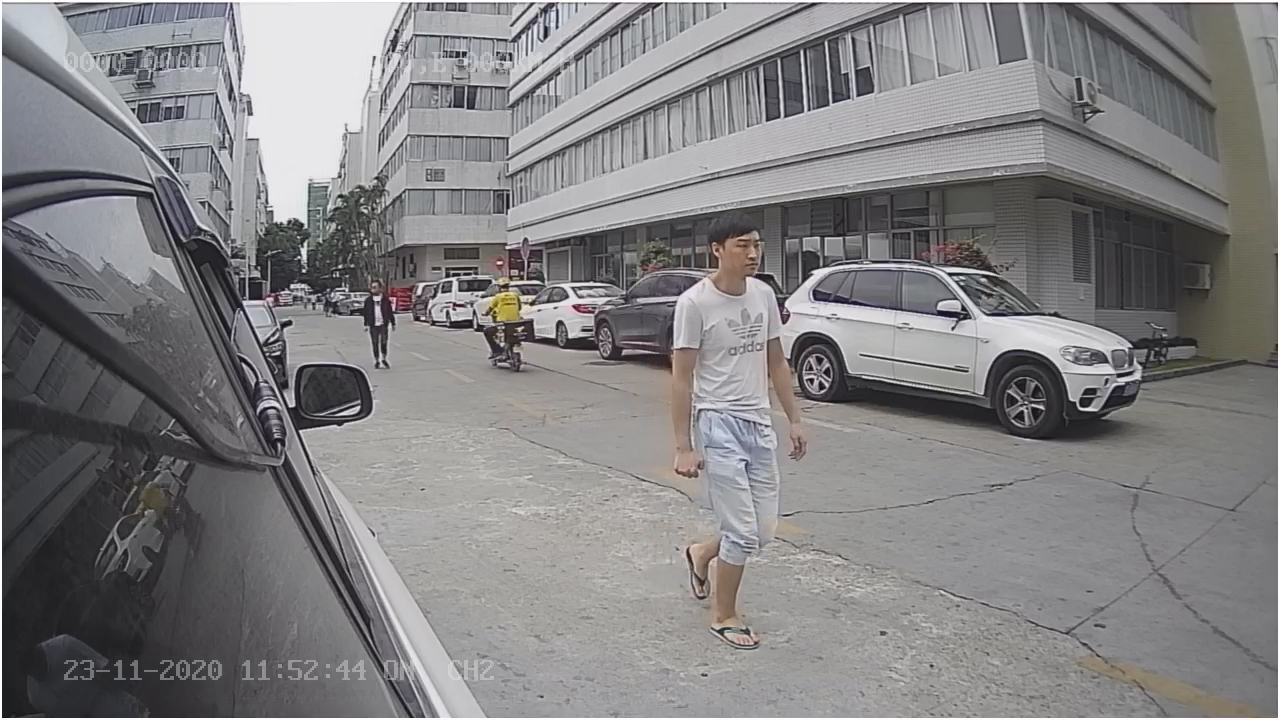person: (668, 225, 805, 651)
